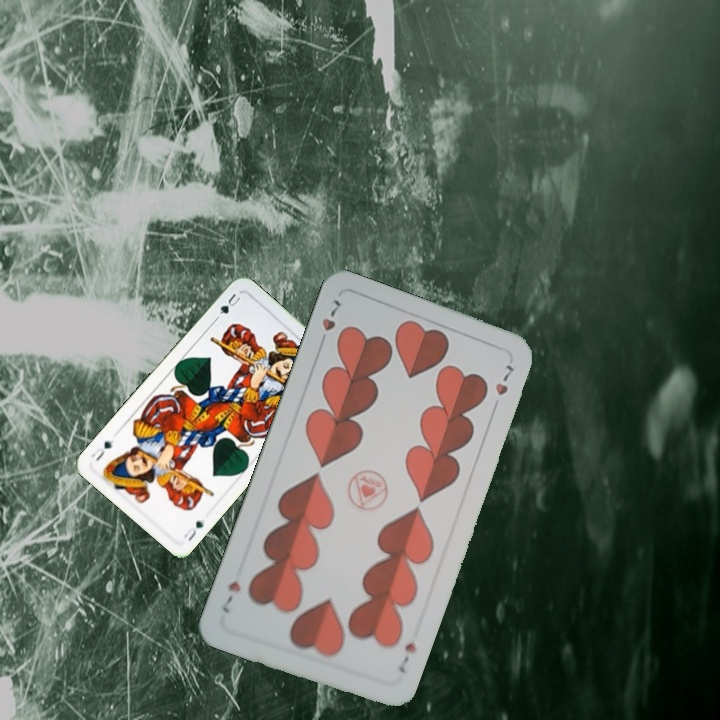GU: (212, 289, 244, 322), (179, 517, 206, 544)
H7: (317, 295, 343, 350), (394, 638, 419, 676)
